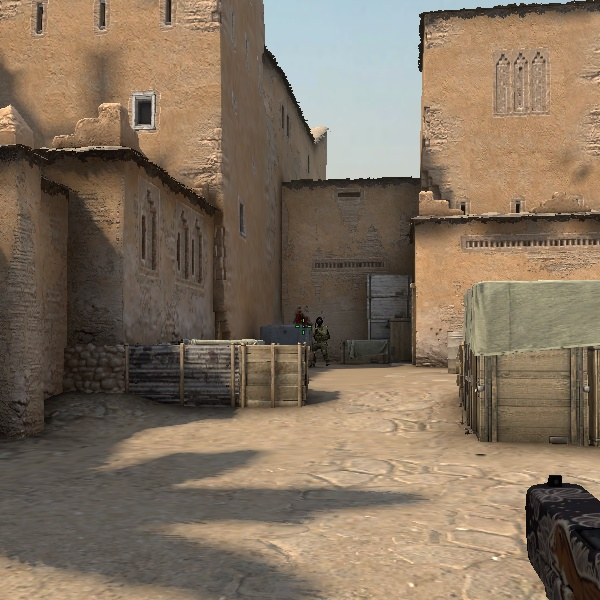ct_body: (307, 314, 333, 369)
ct_head: (315, 316, 324, 327)
